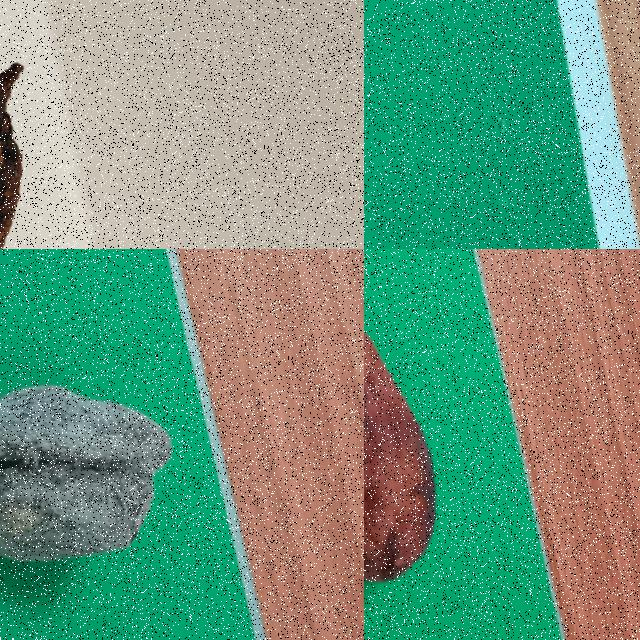Agglomerated_cocoabeans: (0, 249, 272, 639)
Fine_cocoabeans: (364, 249, 533, 639)
Flat_cocoabeans: (0, 0, 147, 248)
